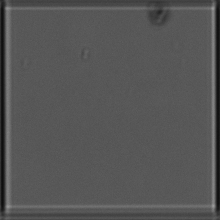Dead Cell: (142, 2, 179, 28)
